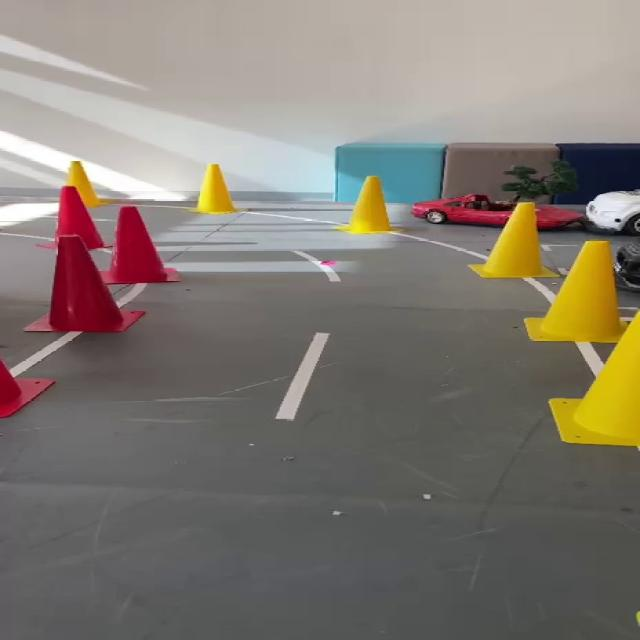Cone-red: (25, 185, 178, 332), (0, 358, 52, 417)
Cones-yellow: (526, 240, 639, 448), (550, 312, 639, 448), (470, 202, 557, 278), (335, 176, 393, 234), (193, 164, 237, 214), (66, 161, 103, 206)
